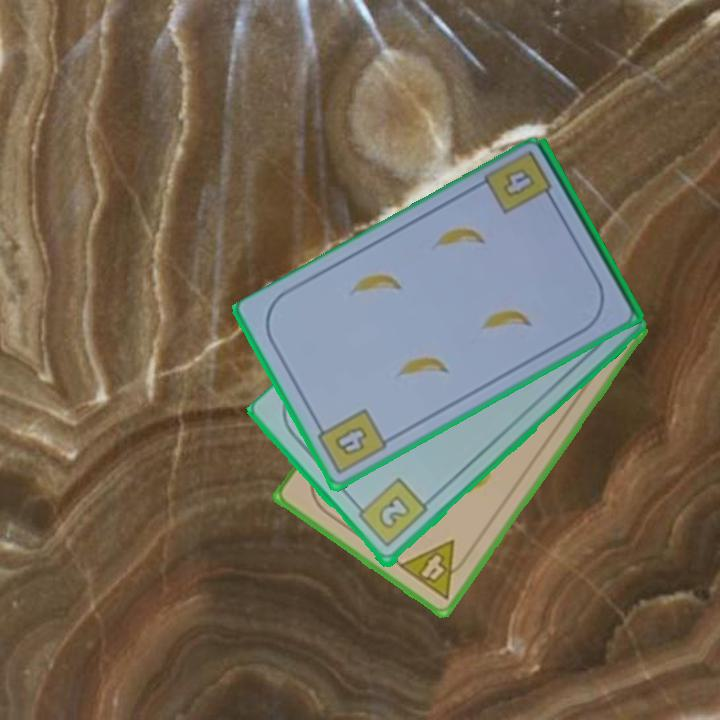2b: (351, 475, 431, 551)
4b: (311, 405, 390, 478), (498, 164, 538, 201)
4p: (394, 536, 475, 603)
